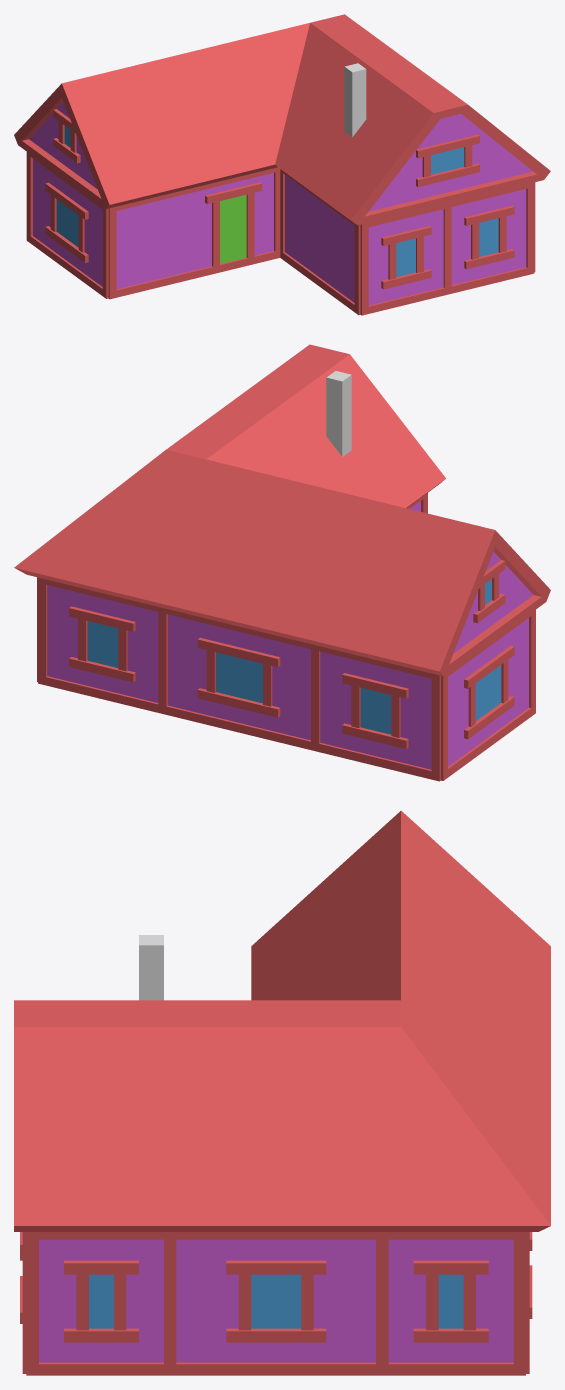
File: KatoHouse.fbx
The picture shows the model from 3 angles, top to bottom: view 1: azimuth 30°, elevation 25°; view 2: azimuth 150°, elevation 25°; view 3: azimuth 270°, elevation 25°; orthographic projection. The views are drawn at different scales.
Visible parts, largest first — view 1: Cube.001, Cube, Cube.002; view 2: Cube.001, Cube, Cube.002; view 3: Cube.001, Cube, Cube.002.
Part boxes in pixels (x1,y1,x2,y2): Cube.001: (14, 14, 550, 225); Cube: (26, 152, 535, 315); Cube.002: (344, 63, 366, 137); Cube.001: (14, 344, 550, 676); Cube: (37, 493, 535, 781); Cube.002: (326, 371, 351, 456); Cube.001: (14, 810, 550, 1231); Cube: (20, 1232, 532, 1375); Cube.002: (139, 935, 163, 1000).
Size of the model in its own units: 1060 by 580 by 860.
